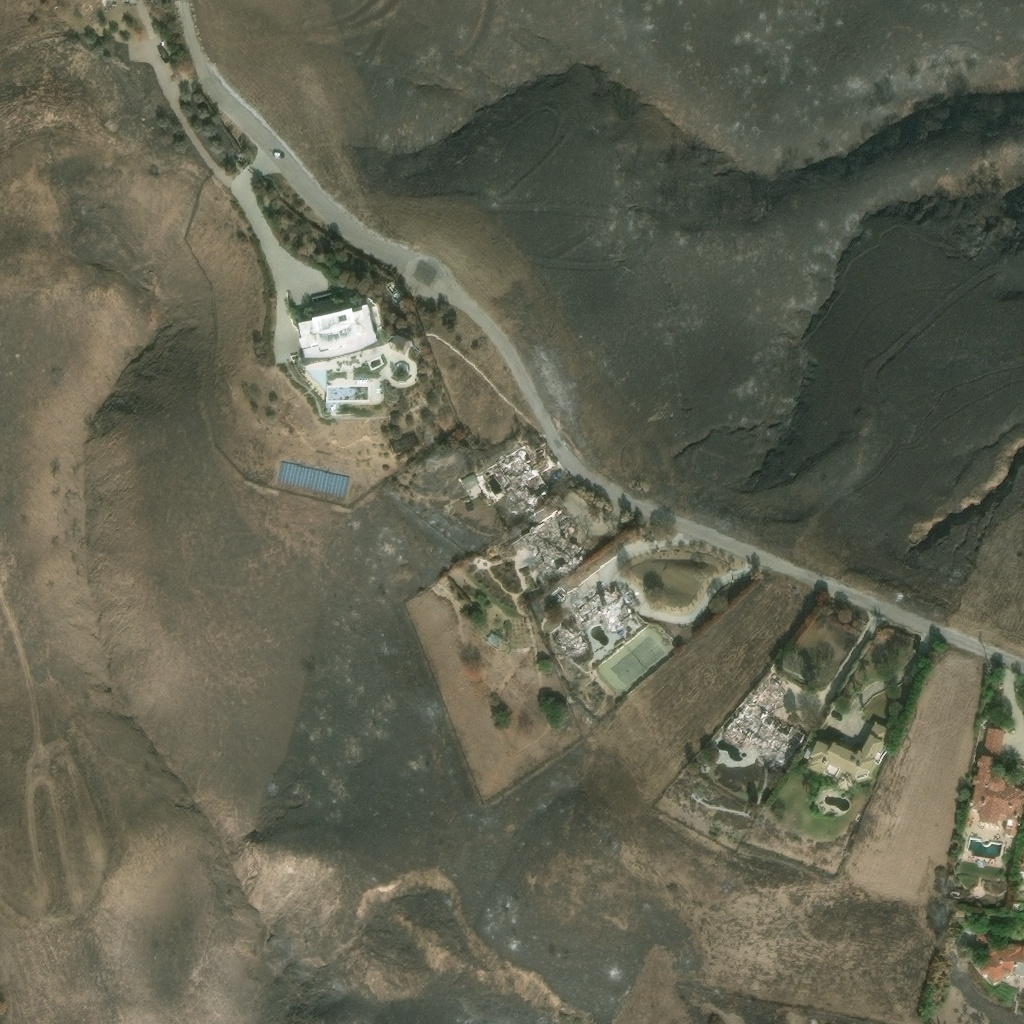0 no-damage: (804, 718, 893, 780), (296, 303, 376, 356), (969, 753, 1023, 825), (971, 929, 1023, 984), (982, 724, 1004, 754), (461, 471, 478, 488)
3 destroyed: (720, 676, 809, 770), (490, 447, 550, 514), (569, 576, 635, 618), (530, 515, 579, 570), (555, 622, 588, 651), (389, 429, 419, 451), (385, 279, 404, 300), (483, 629, 501, 646)
